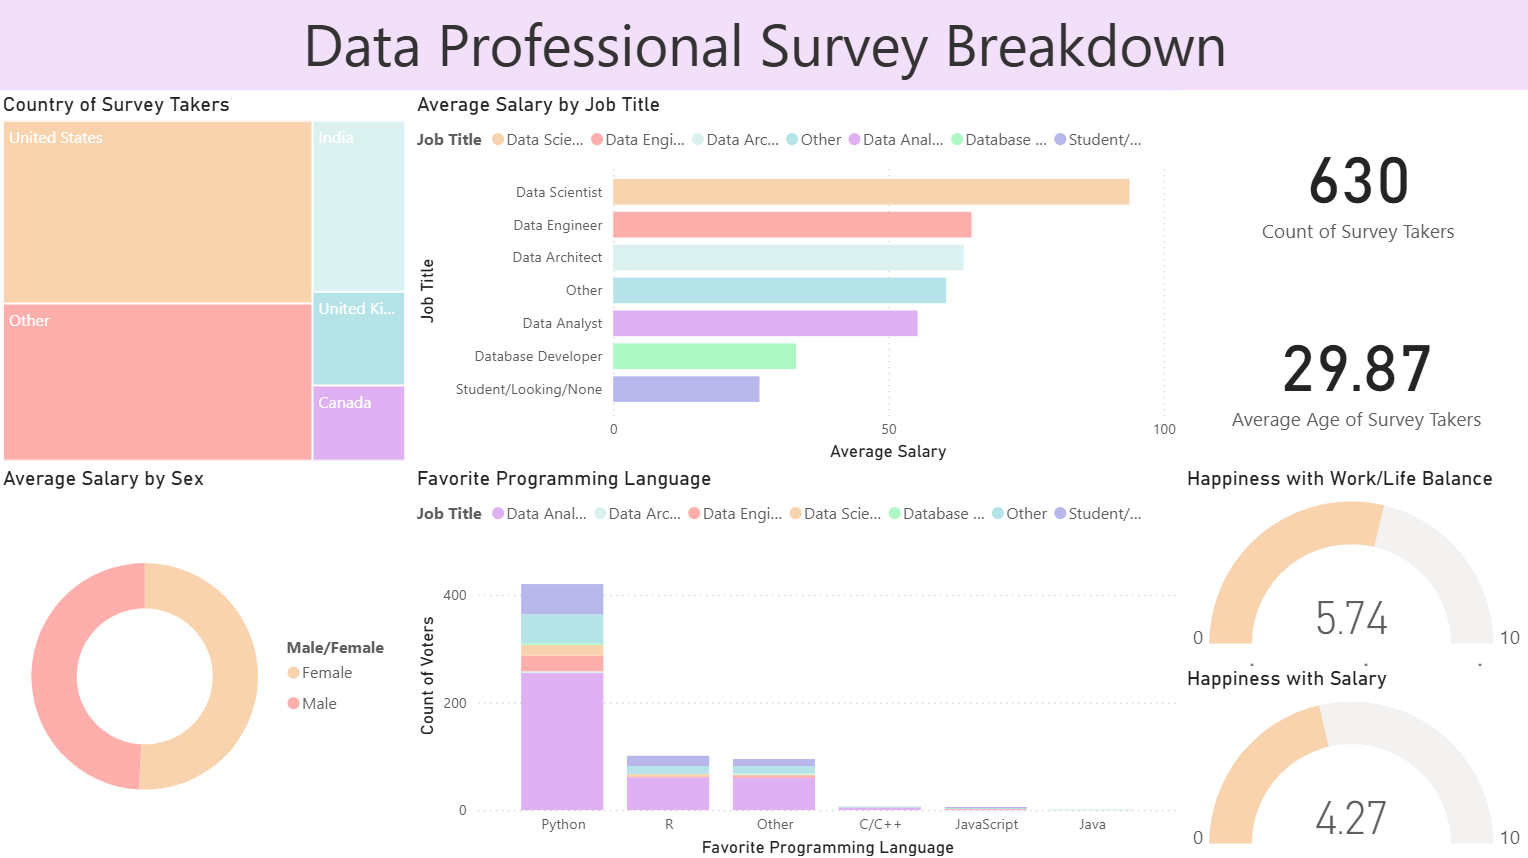

The dashboard page shown, as its layout file describes it:
{"tool":"powerbi","page":{"name":"第 1 页","canvas":[1280,720],"ordinal":0},"visuals":[{"type":"textbox","box":[0,0,1280,76.8],"z":0},{"type":"card","fields":{"Values":["Count(Data Professional Survey.Unique ID)"]},"box":[987.4,76.5,295.6,157.6],"z":1000},{"type":"card","fields":{"Values":["Avg(Data Professional Survey.Q10 - Current Age)"]},"box":[987.4,232.6,292.6,157.6],"z":2000},{"type":"barChart","title":"Average Salary by Job Title","fields":{"Category":["Data Professional Survey.Q1 - Which Title Best Fits your Current Role?.1"],"Y":["Avg(Data Professional Survey.Average Salary)"],"Series":["Data Professional Survey.Q1 - Which Title Best Fits your Current Role?.1"]},"box":[345.1,78,642.3,312.1],"z":3000},{"type":"columnChart","title":"Favorite Programming Language","fields":{"Category":["Data Professional Survey.Q5 - Favorite Programming Language.1"],"Y":["CountNonNull(Data Professional Survey.Unique ID)"],"Series":["Data Professional Survey.Q1 - Which Title Best Fits your Current Role?.1"]},"box":[345.1,390.2,643.8,330.1],"z":4000},{"type":"treemap","title":"Country of Survey Takers","fields":{"Group":["Data Professional Survey.Q11 - Which Country do you live in?.1"],"Values":["CountNonNull(Data Professional Survey.Q11 - Which Country do you live in?.1)"]},"box":[0,78,345.1,312.1],"z":5000},{"type":"gauge","title":"Happiness with Work/Life Balance","fields":{"Y":["Avg(Data Professional Survey.Q6 - How Happy are you in your Current Position with the following? (Work/Life Balance))"],"MinValue":["Min(Data Professional Survey.Q6 - How Happy are you in your Current Position with the following? (Work/Life Balance))"],"MaxValue":["Max(Data Professional Survey.Q6 - How Happy are you in your Current Position with the following? (Work/Life Balance))1"]},"box":[987.4,390.2,292.6,163.6],"z":6000},{"type":"gauge","title":"Happiness with Salary","fields":{"Y":["Avg(Data Professional Survey.Q6 - How Happy are you in your Current Position with the following? (Salary))"],"MinValue":["Min(Data Professional Survey.Q6 - How Happy are you in your Current Position with the following? (Salary))"],"MaxValue":["Max(Data Professional Survey.Q6 - How Happy are you in your Current Position with the following? (Salary))"]},"box":[987.4,556.7,292.6,163.6],"z":7000},{"type":"donutChart","title":"Average Salary by Sex","fields":{"Category":["Data Professional Survey.Q9 - Male/Female?"],"Y":["Avg(Data Professional Survey.Average Salary)"]},"box":[0,390.2,345.1,331.6],"z":8000}]}

Visuals, with their boxes in screenshot pixels (x1, y1, x2, y2), scaled from the page's 1280x720 canvas onto the 1528x858 screenshot:
textbox: box(0, 0, 1527, 92)
card - Count(Data Professional Survey.Unique ID): box(1179, 91, 1527, 279)
card - Avg(Data Professional Survey.Q10 - Current Age): box(1179, 277, 1527, 465)
"Average Salary by Job Title" barChart: box(412, 93, 1179, 465)
"Favorite Programming Language" columnChart: box(412, 465, 1180, 857)
"Country of Survey Takers" treemap: box(0, 93, 412, 465)
"Happiness with Work/Life Balance" gauge: box(1179, 465, 1527, 660)
"Happiness with Salary" gauge: box(1179, 663, 1527, 857)
"Average Salary by Sex" donutChart: box(0, 465, 412, 857)
